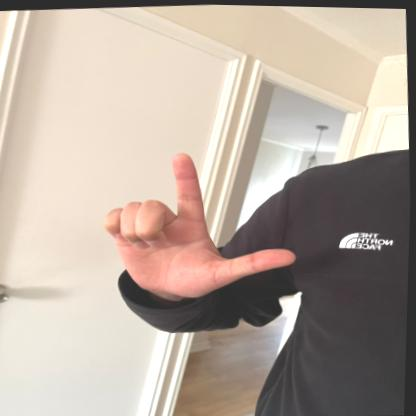L: (101, 140, 301, 303)
